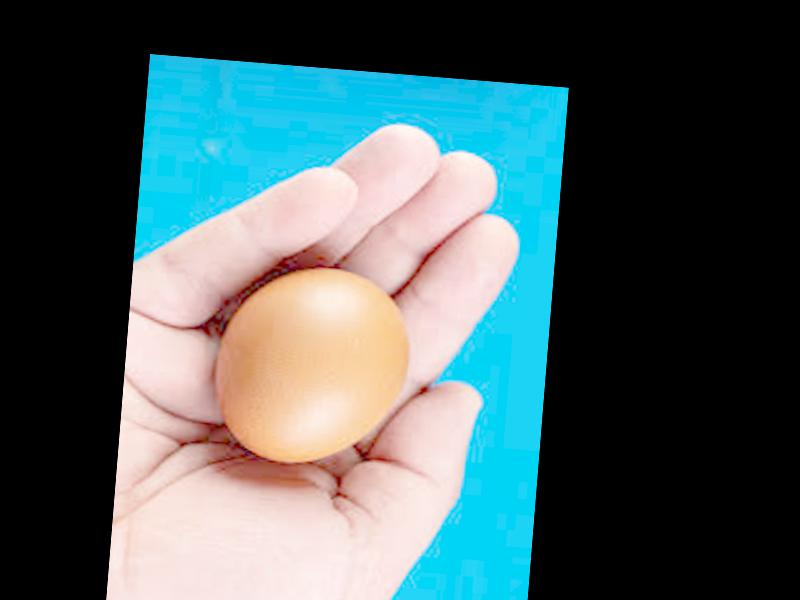Eggs: (214, 258, 415, 470)
